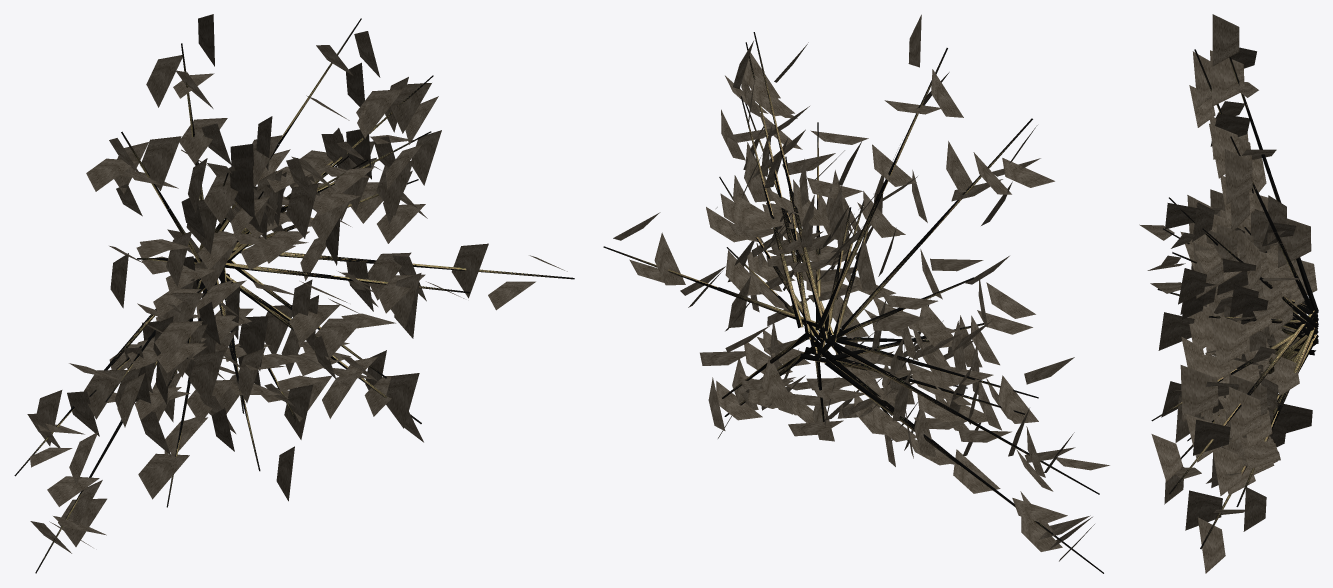
Rendered from PZ_ALP_05_Low_Juniper_Shrub.glb.
3 renders of one model, left to right at view 1: azimuth 30°, elevation 25°; view 2: azimuth 150°, elevation 25°; view 3: azimuth 270°, elevation 25°, orthographic. The views are drawn at different scales.
Parts seen in each view (by area): view 1: Leaves_AlphaMaskedCards, WoodyBranchNetwork; view 2: Leaves_AlphaMaskedCards, WoodyBranchNetwork; view 3: Leaves_AlphaMaskedCards, WoodyBranchNetwork.
Part boxes in pixels (left/top/right/bottom): Leaves_AlphaMaskedCards: left=27, top=14, right=567, bottom=553; WoodyBranchNetwork: left=14, top=18, right=574, bottom=573; Leaves_AlphaMaskedCards: left=613, top=14, right=1109, bottom=561; WoodyBranchNetwork: left=603, top=32, right=1103, bottom=573; Leaves_AlphaMaskedCards: left=1139, top=14, right=1317, bottom=573; WoodyBranchNetwork: left=1151, top=49, right=1318, bottom=549.
Size of the model in its own units: 1.91 by 1.78 by 0.5819.
Materials: 2 (2 with a texture image).
